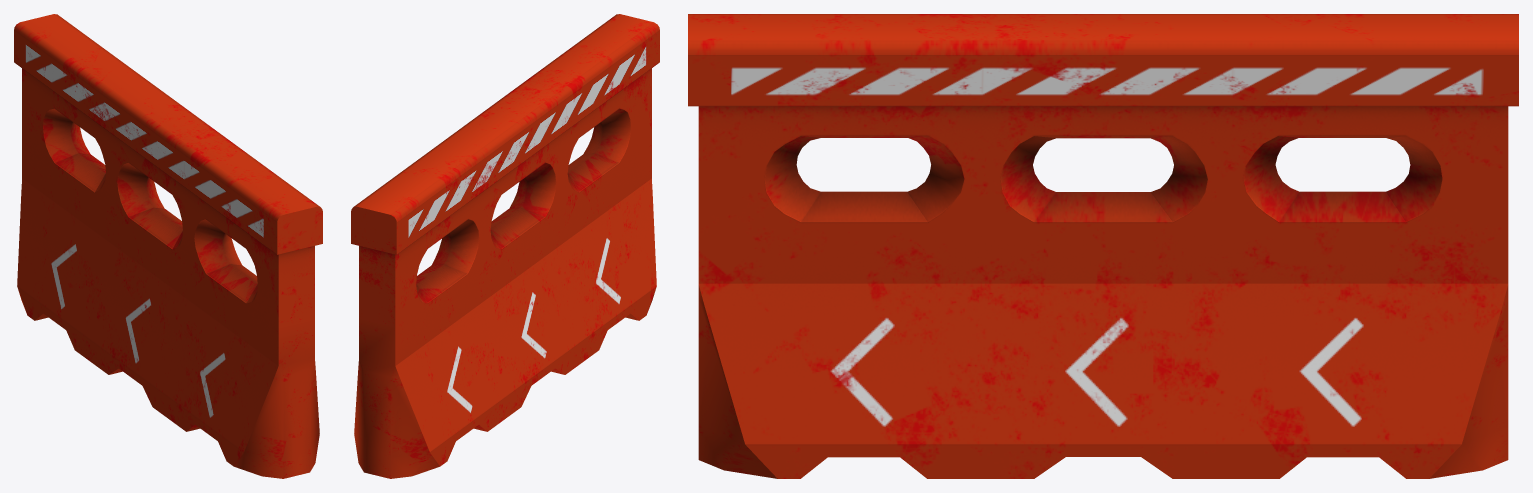
3 renders of one model, left to right at view 1: azimuth 30°, elevation 25°; view 2: azimuth 150°, elevation 25°; view 3: azimuth 270°, elevation 25°, orthographic. The views are drawn at different scales.
Parts seen in each view (by area): view 1: pc; view 2: pc; view 3: pc.
Boxes of the visible parts, x1,y1,x2,y2 form: pc: (14,14,322,478); pc: (351,14,659,478); pc: (688,14,1518,478).
Size of the model in its own units: 60.65 by 365 by 205.
